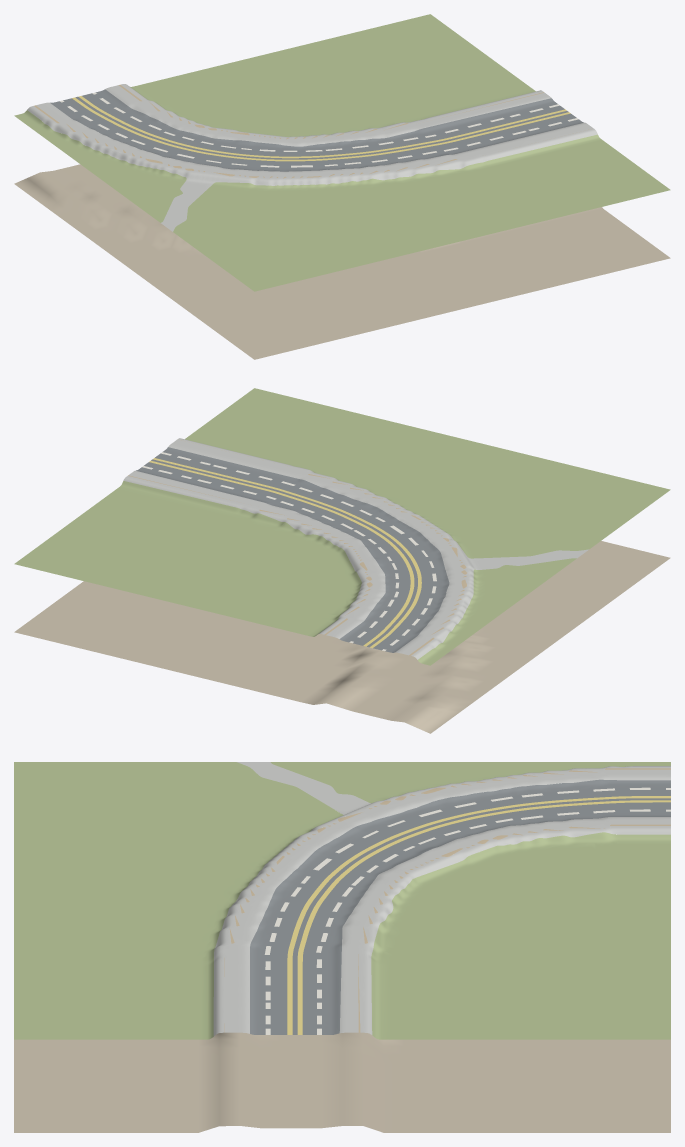
The picture shows the model from 3 angles, top to bottom: view 1: azimuth 30°, elevation 25°; view 2: azimuth 150°, elevation 25°; view 3: azimuth 270°, elevation 25°; orthographic projection. The views are drawn at different scales.
Parts seen in each view (by area): view 1: s_-11_5__grass, s_-11_5__soil, s_-11_5__stone_paving, s_-11_5__asphalt, s_-11_5__yellow_marking, s_-11_5__white_marking, s_-11_5__timber_deck; view 2: s_-11_5__grass, s_-11_5__soil, s_-11_5__asphalt, s_-11_5__stone_paving, s_-11_5__yellow_marking, s_-11_5__white_marking, s_-11_5__timber_deck; view 3: s_-11_5__grass, s_-11_5__soil, s_-11_5__asphalt, s_-11_5__stone_paving, s_-11_5__yellow_marking, s_-11_5__white_marking, s_-11_5__timber_deck.
Boxes of the visible parts, x1=… form: s_-11_5__grass: x1=14, y1=14, x2=670, y2=291; s_-11_5__soil: x1=14, y1=164, x2=670, y2=359; s_-11_5__stone_paving: x1=27, y1=84, x2=597, y2=231; s_-11_5__asphalt: x1=50, y1=89, x2=583, y2=171; s_-11_5__yellow_marking: x1=72, y1=96, x2=570, y2=161; s_-11_5__white_marking: x1=60, y1=92, x2=578, y2=167; s_-11_5__timber_deck: x1=34, y1=84, x2=591, y2=178; s_-11_5__grass: x1=14, y1=388, x2=670, y2=665; s_-11_5__soil: x1=14, y1=541, x2=670, y2=733; s_-11_5__asphalt: x1=136, y1=447, x2=449, y2=652; s_-11_5__stone_paving: x1=123, y1=438, x2=588, y2=659; s_-11_5__yellow_marking: x1=149, y1=458, x2=421, y2=648; s_-11_5__white_marking: x1=142, y1=452, x2=436, y2=650; s_-11_5__timber_deck: x1=128, y1=440, x2=466, y2=655; s_-11_5__grass: x1=14, y1=762, x2=670, y2=1039; s_-11_5__soil: x1=14, y1=1032, x2=670, y2=1132; s_-11_5__asphalt: x1=250, y1=779, x2=670, y2=1034; s_-11_5__stone_paving: x1=213, y1=762, x2=670, y2=1036; s_-11_5__yellow_marking: x1=287, y1=796, x2=670, y2=1034; s_-11_5__white_marking: x1=264, y1=787, x2=670, y2=1034; s_-11_5__timber_deck: x1=224, y1=768, x2=670, y2=1032.
Bounding box in the file's own units: 128 × 21.51 × 128.
